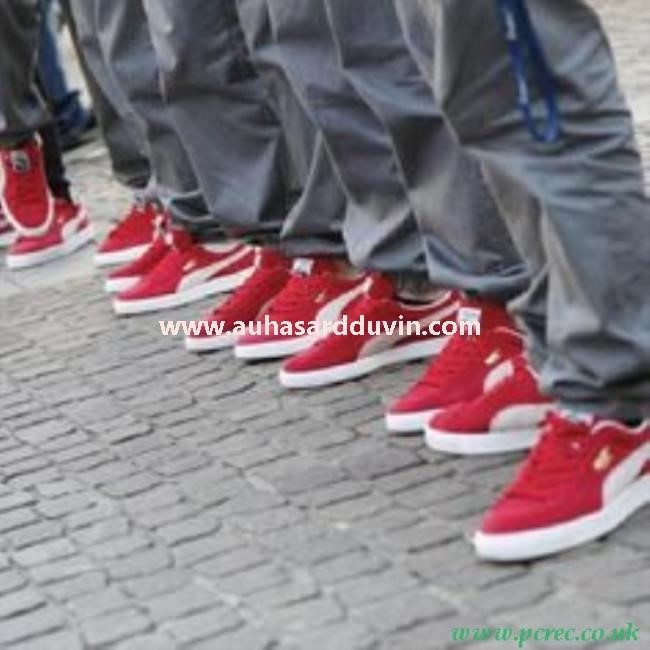Puma Suede Low Red: (466, 398, 650, 567), (107, 222, 260, 314)
